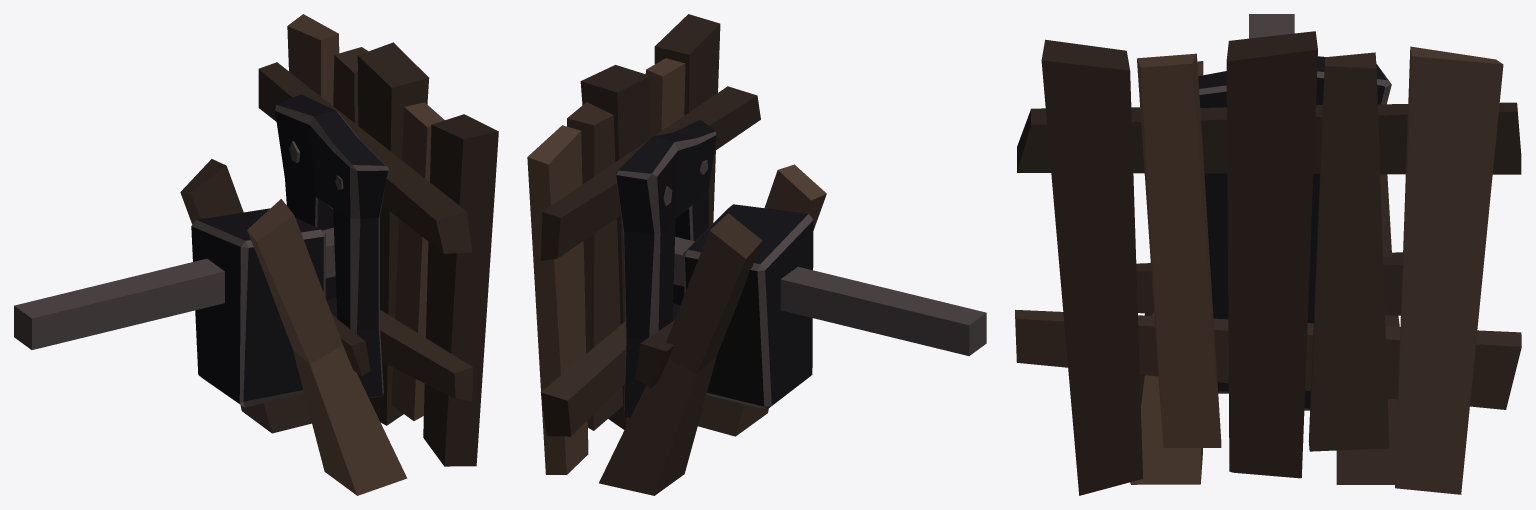
Rendered from Press.fbx.
3 renders of one model, left to right at view 1: azimuth 30°, elevation 25°; view 2: azimuth 150°, elevation 25°; view 3: azimuth 270°, elevation 25°, orthographic. The views are drawn at different scales.
Visible parts, largest first — view 1: Press, Press Mount; view 2: Press, Press Mount; view 3: Press, Press Mount.
Part boxes in pixels (bbox=[...]): Press: bbox=[14, 14, 498, 466]; Press Mount: bbox=[180, 159, 407, 495]; Press: bbox=[527, 14, 986, 474]; Press Mount: bbox=[599, 164, 826, 495]; Press: bbox=[1015, 14, 1521, 495]; Press Mount: bbox=[1130, 61, 1402, 484].
Bounding box in the file's own units: 276 × 251 × 243.
